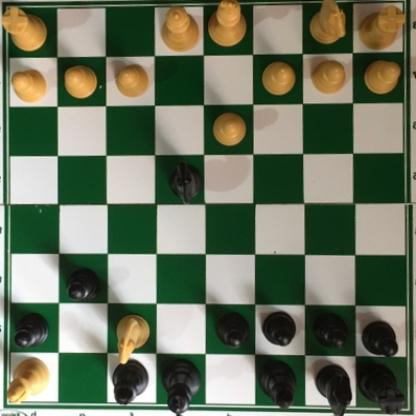black-bishop: (254, 363, 297, 411), (111, 357, 150, 407)
black-king: (159, 359, 202, 415)
black-knight: (315, 363, 353, 415), (168, 160, 202, 205)
black-pawn: (361, 318, 399, 359), (260, 309, 296, 350), (214, 309, 249, 351), (312, 312, 349, 351), (13, 311, 50, 349), (65, 266, 100, 303)
black-rook: (356, 362, 404, 415)
white-bishop: (5, 358, 51, 404)
white-king: (205, 0, 248, 48)
white-knight: (114, 314, 150, 370), (308, 0, 347, 47)
white-pawn: (360, 60, 400, 103), (8, 71, 48, 106), (60, 65, 100, 100), (114, 63, 151, 100), (310, 58, 346, 96), (256, 63, 295, 98), (211, 110, 247, 147)
white-queen: (158, 2, 198, 57)
white-rook: (1, 4, 49, 55), (356, 6, 404, 53)
